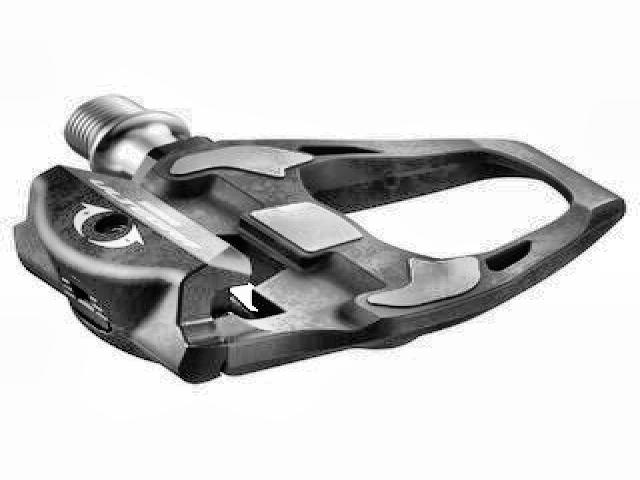pedal: (11, 92, 631, 404)
